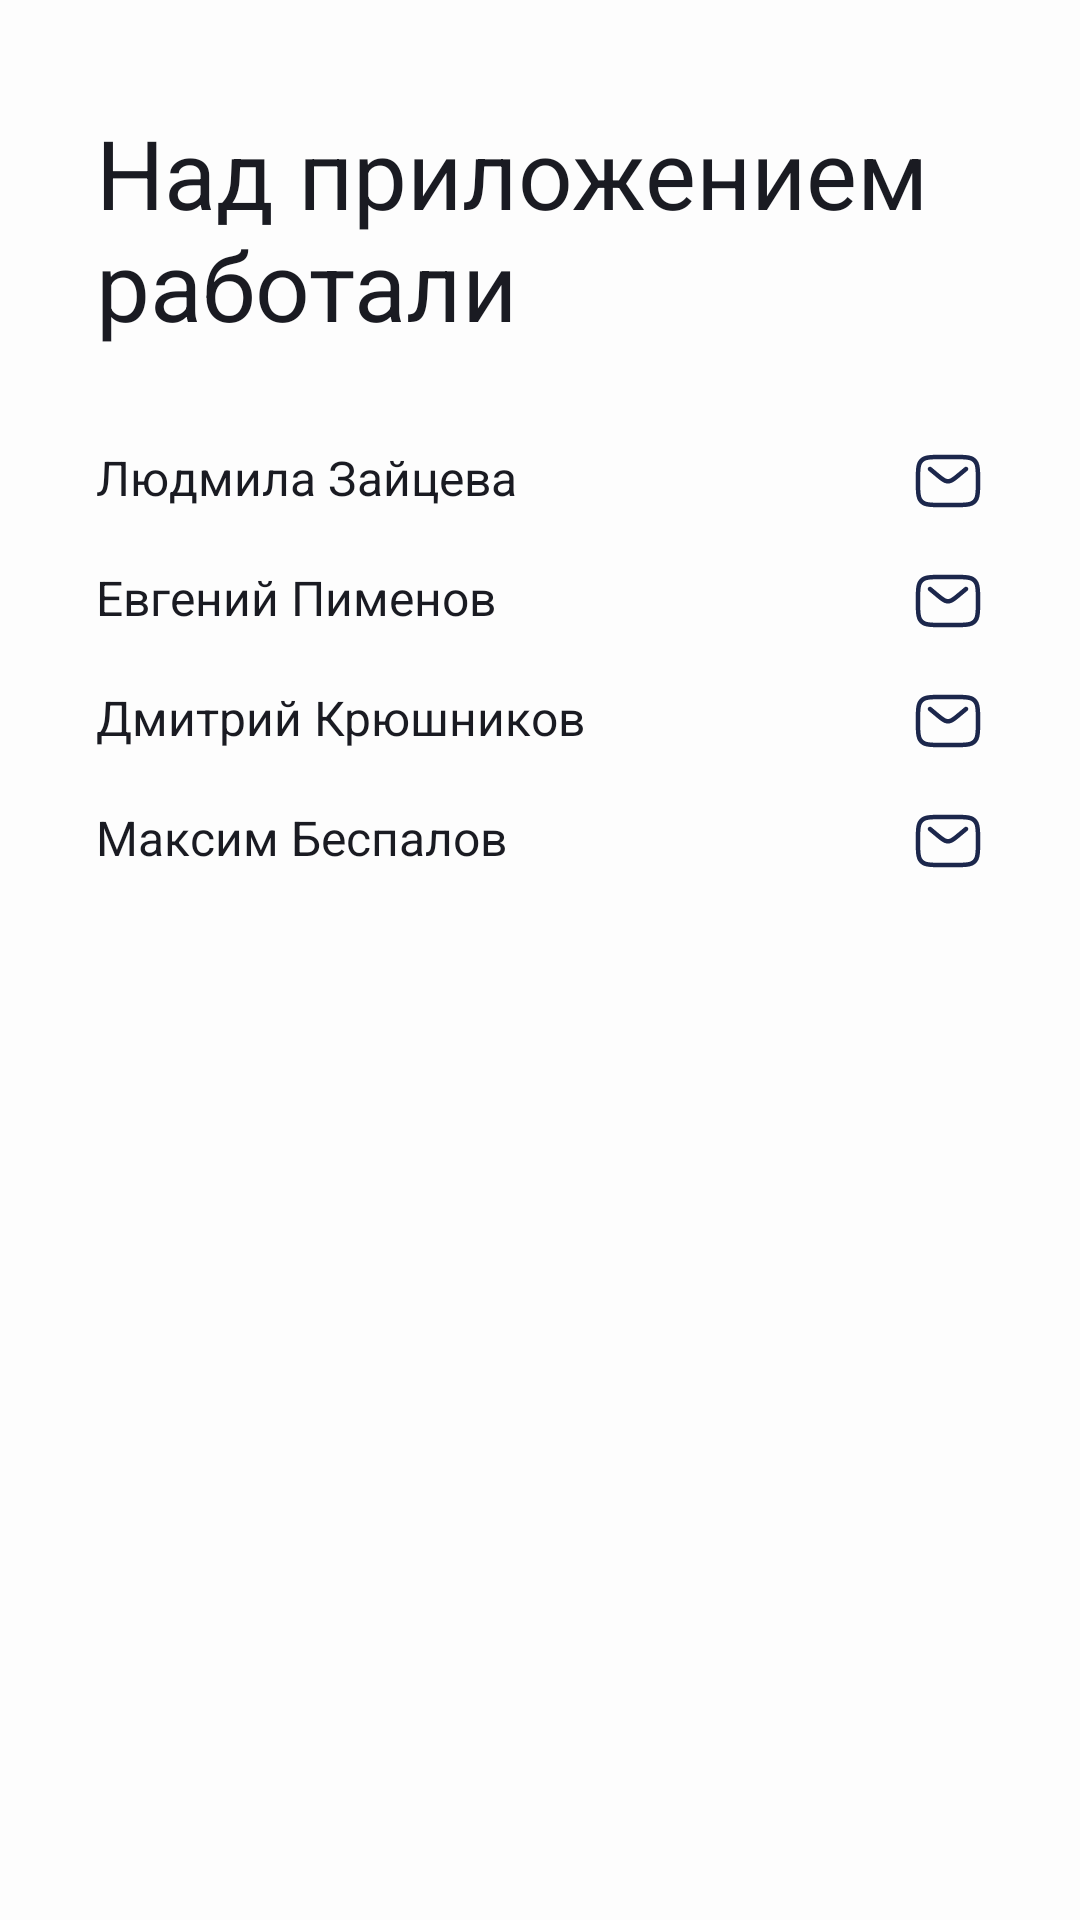

Screen size 1080*1920. Icon name, then its center in pixels as [x,y]:
mail not open: [948,481], [948,601], [948,721], [948,841]
